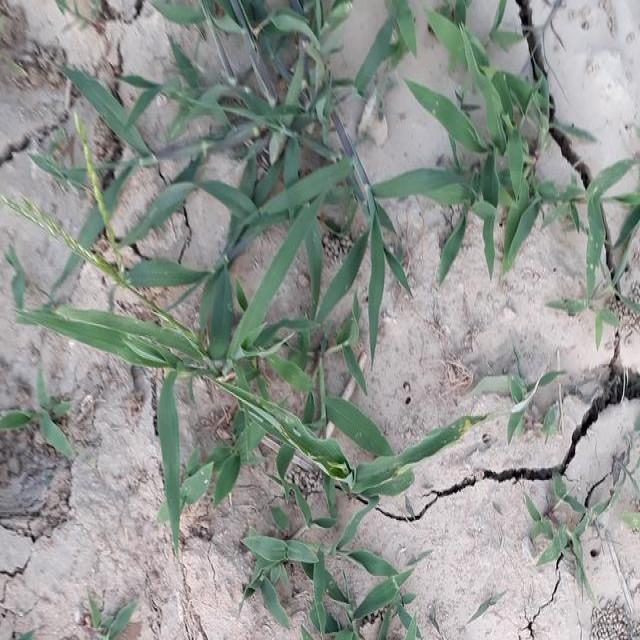weed: (109, 0, 420, 637), (403, 57, 623, 304)
